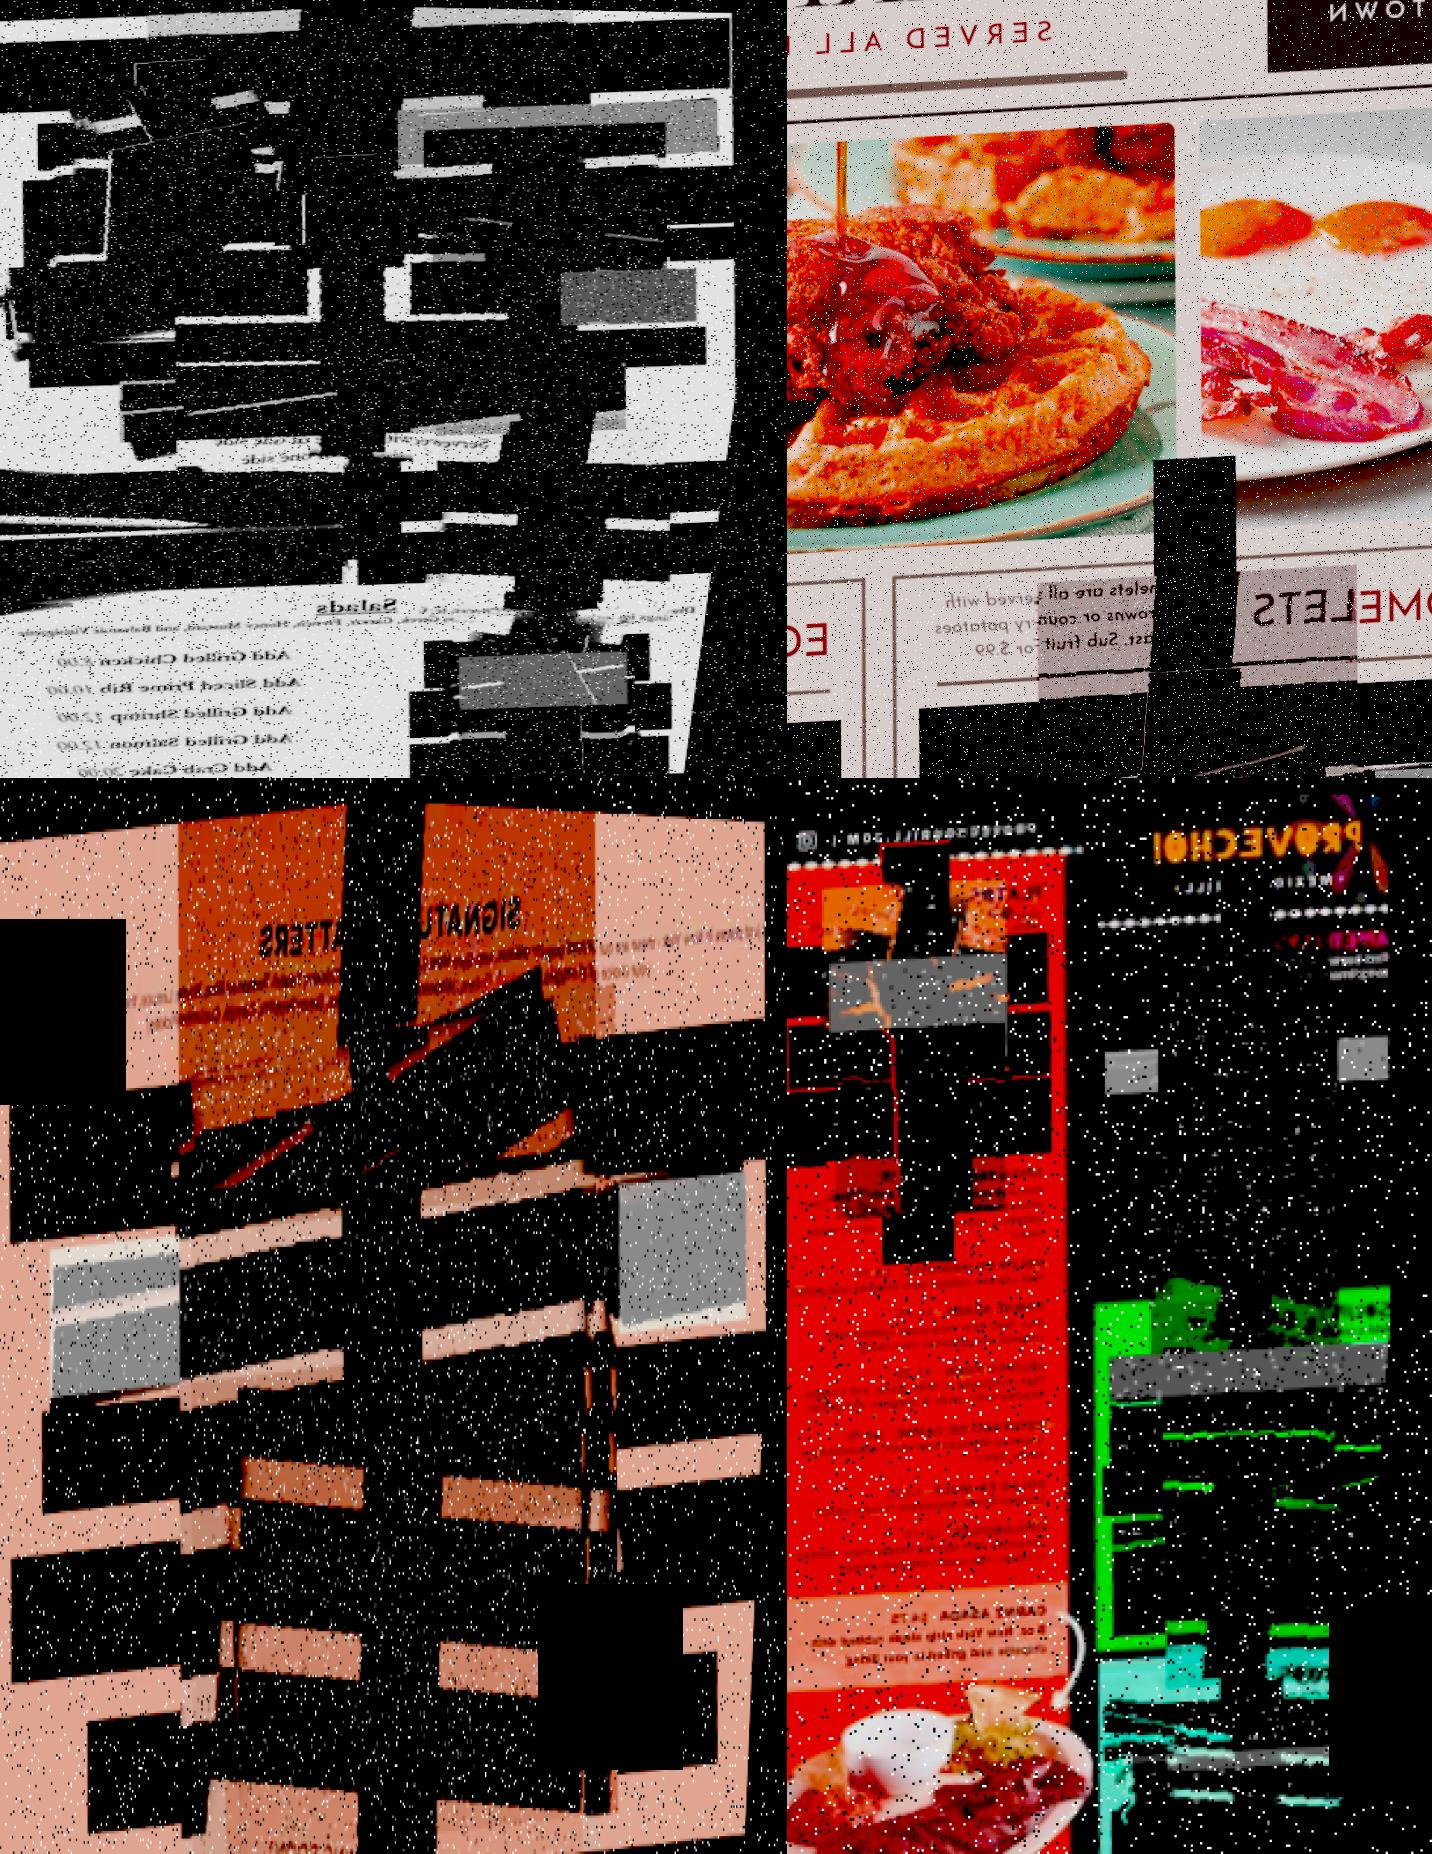Menu-Items: (165, 956, 654, 1854), (153, 786, 626, 1574), (161, 1120, 632, 1854), (45, 1131, 754, 1430), (215, 1346, 606, 1854), (156, 229, 596, 481), (128, 2, 599, 204), (1027, 547, 1397, 777), (122, 346, 645, 453), (1143, 1149, 1361, 1364), (423, 469, 704, 632), (412, 117, 690, 277), (811, 872, 1023, 1081), (1151, 1007, 1358, 1212), (421, 168, 692, 323), (821, 950, 1027, 1153), (1148, 1104, 1352, 1305), (820, 1025, 1023, 1225), (436, 414, 698, 564), (1161, 1382, 1358, 1577), (1167, 1495, 1364, 1689), (41, 146, 296, 293), (0, 251, 346, 358), (1154, 917, 1346, 1107), (1155, 1060, 1348, 1250), (0, 517, 373, 615), (0, 457, 366, 549), (1118, 1480, 1388, 1591), (802, 1153, 1068, 1265), (1116, 1373, 1396, 1478), (65, 78, 289, 208), (394, 92, 728, 171), (453, 647, 668, 770), (1116, 1678, 1376, 1779), (809, 1583, 1079, 1680), (1115, 1329, 1399, 1418), (1176, 1725, 1364, 1854), (796, 1505, 1076, 1586), (1107, 1025, 1396, 1102), (460, 603, 653, 714), (787, 1238, 1060, 1316), (1127, 1731, 1373, 1816), (424, 260, 710, 332), (800, 1407, 1066, 1484), (800, 1347, 1065, 1422), (820, 1289, 1065, 1362), (814, 1459, 1068, 1525), (471, 702, 651, 777)
